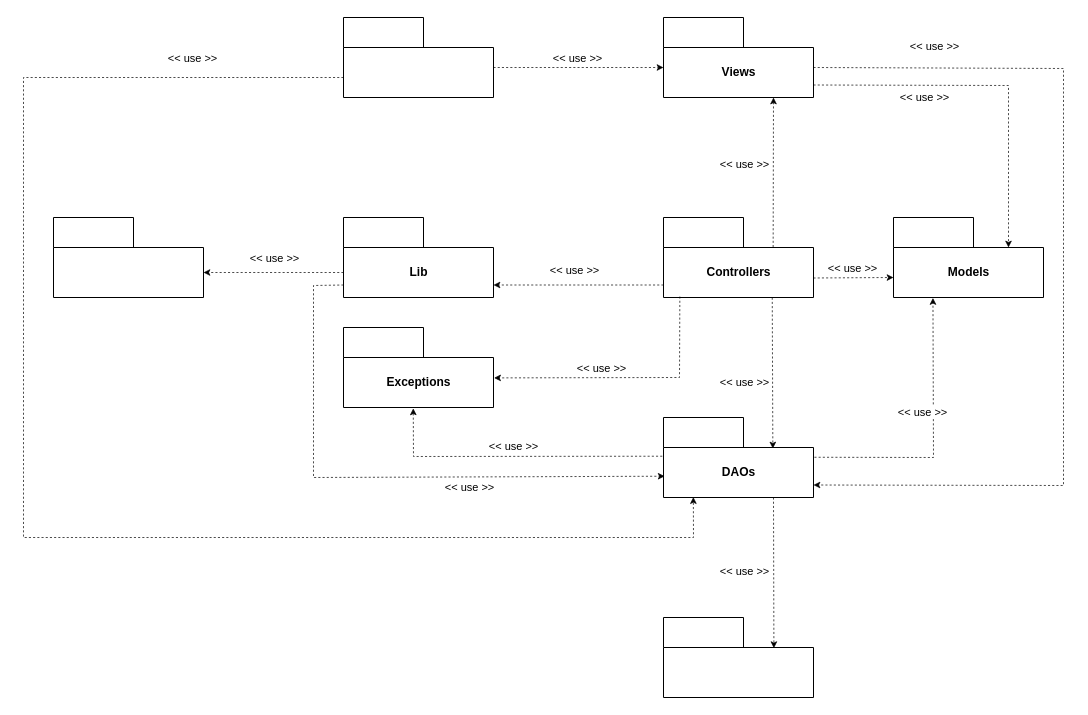
The diagram is 1088 pixels wide and 715 high, and some of its shapes have lost their labels. The centre of each missing label's shape, as x and y in pixels:
"BackUp" goes at point (128, 257).
"DB" goes at point (738, 657).
"Filters" goes at point (418, 57).
